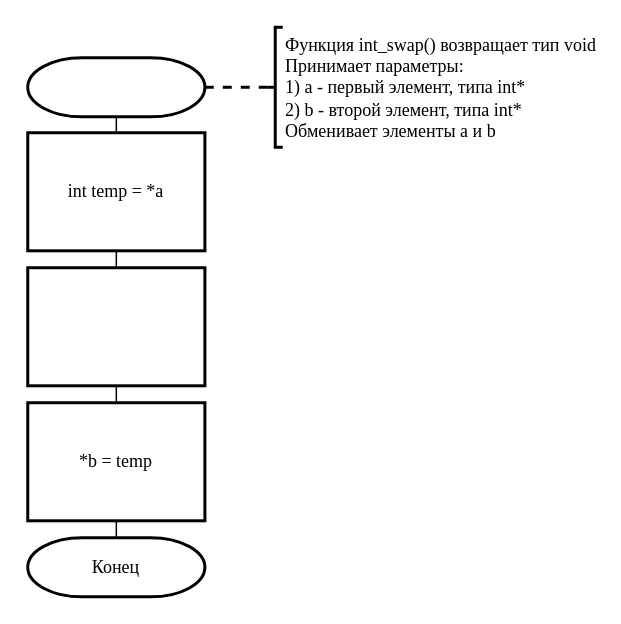
Some shapes in this 621 by 624 pixel diagram are drawn without their labels. The shapes that lost their labels are listed below. From the top down, each one's box as (x1, y1, x2, y2) in pixels, then its label:
(26, 56, 206, 118): void int_swap()
(26, 266, 206, 387): *a = *b
